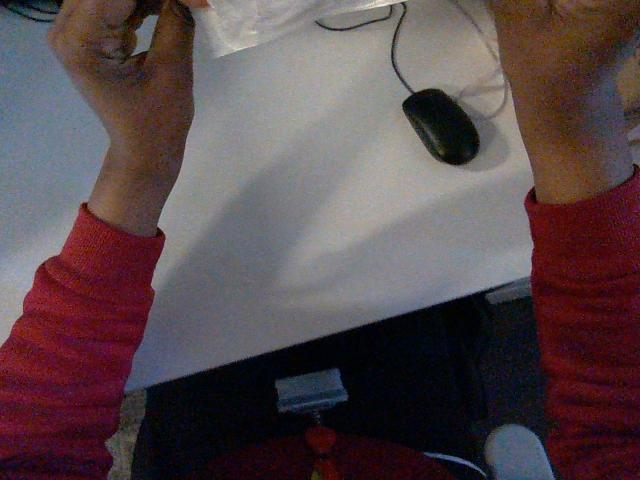syringe: (196, 0, 399, 56)
